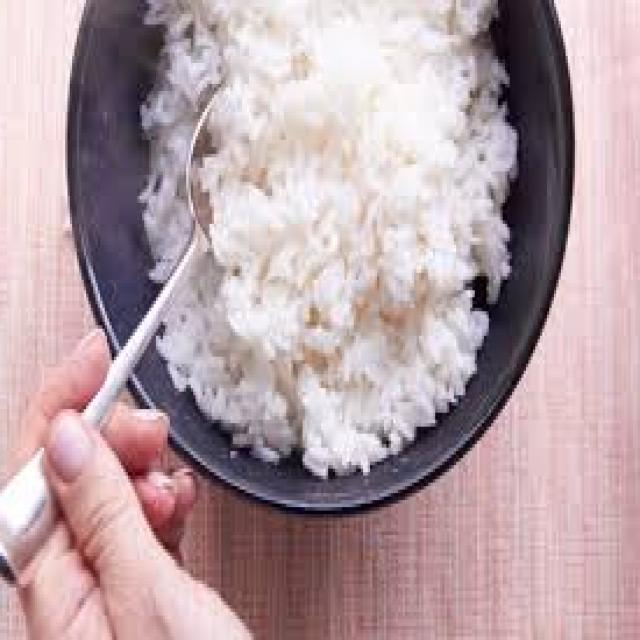White Rice: (83, 7, 563, 409)
